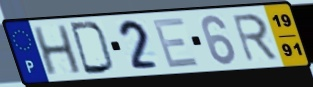2: (117, 17, 165, 73)
6: (199, 13, 238, 67)
D: (67, 21, 117, 76)
E: (150, 16, 202, 70)
H: (31, 23, 85, 77)
R: (230, 12, 281, 64)
